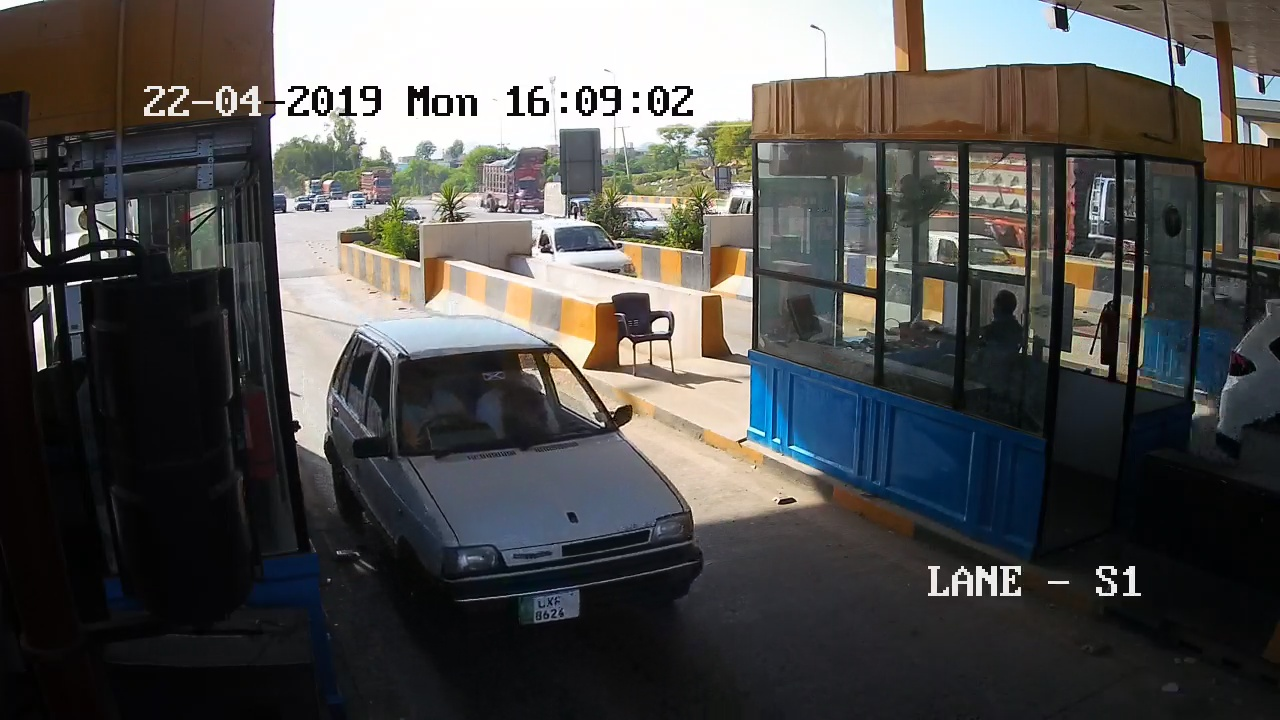Number Plate (Car): (517, 591, 581, 625)
